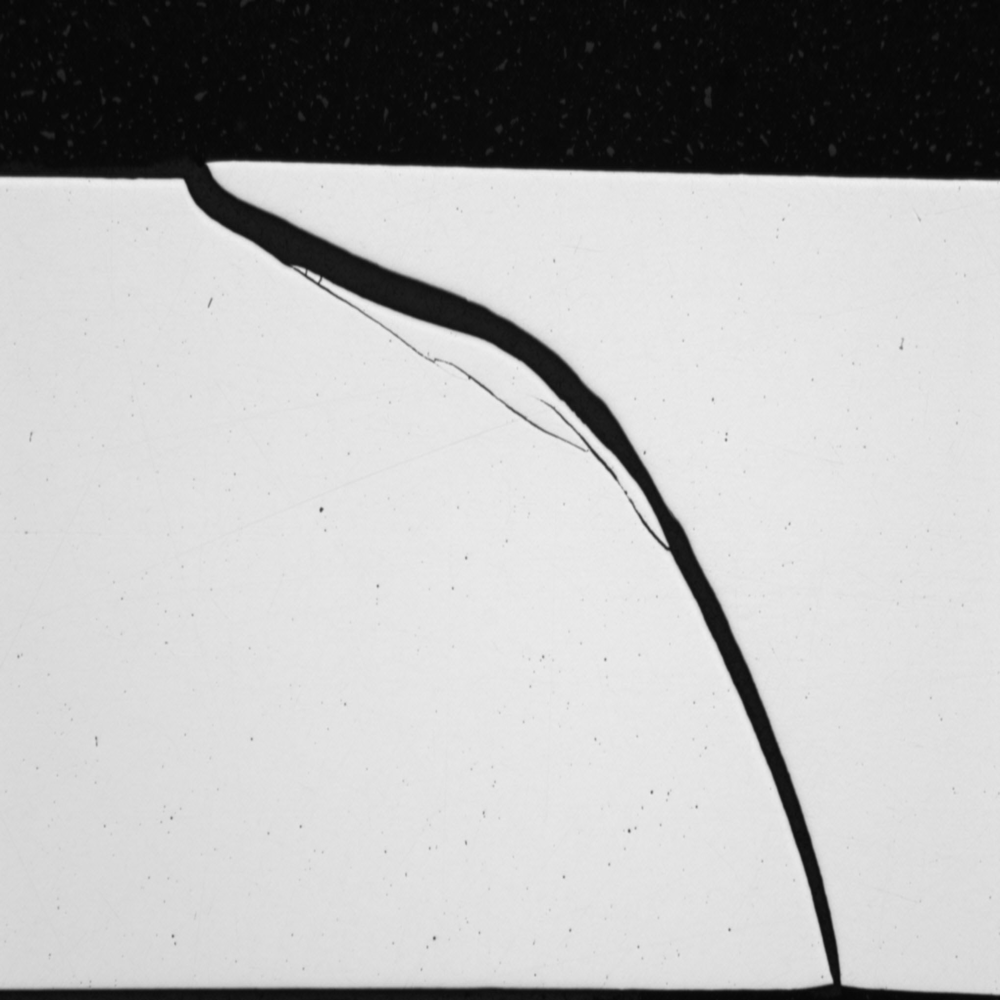crack: (150, 149, 866, 994)
